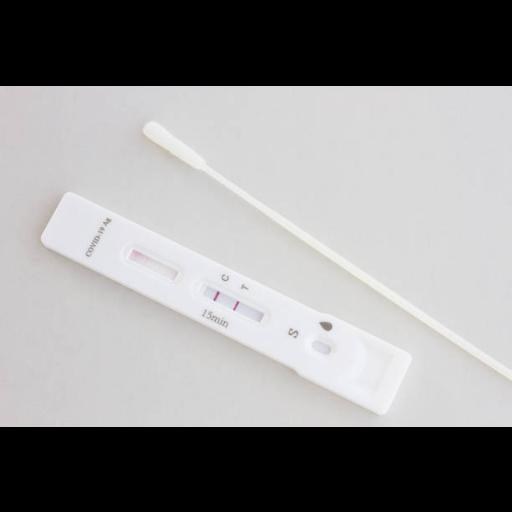Pos: (37, 189, 414, 415)
